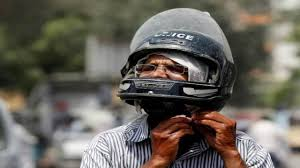com_capacete: (101, 2, 252, 136)
